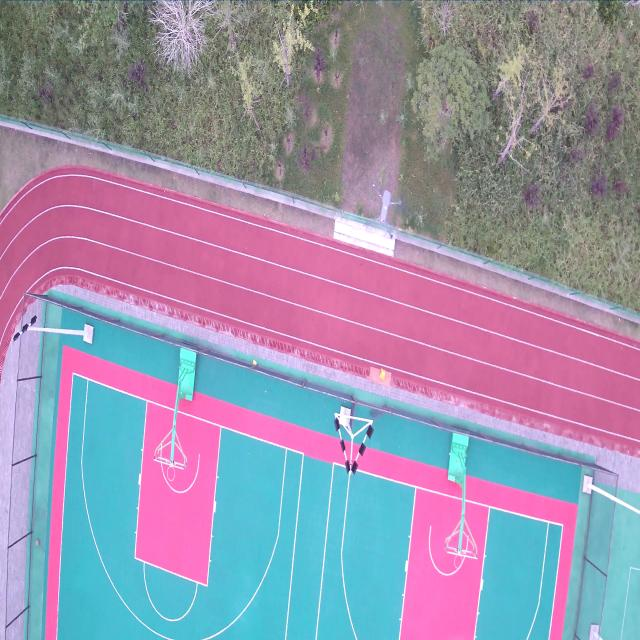UAV: (367, 184, 402, 240)
